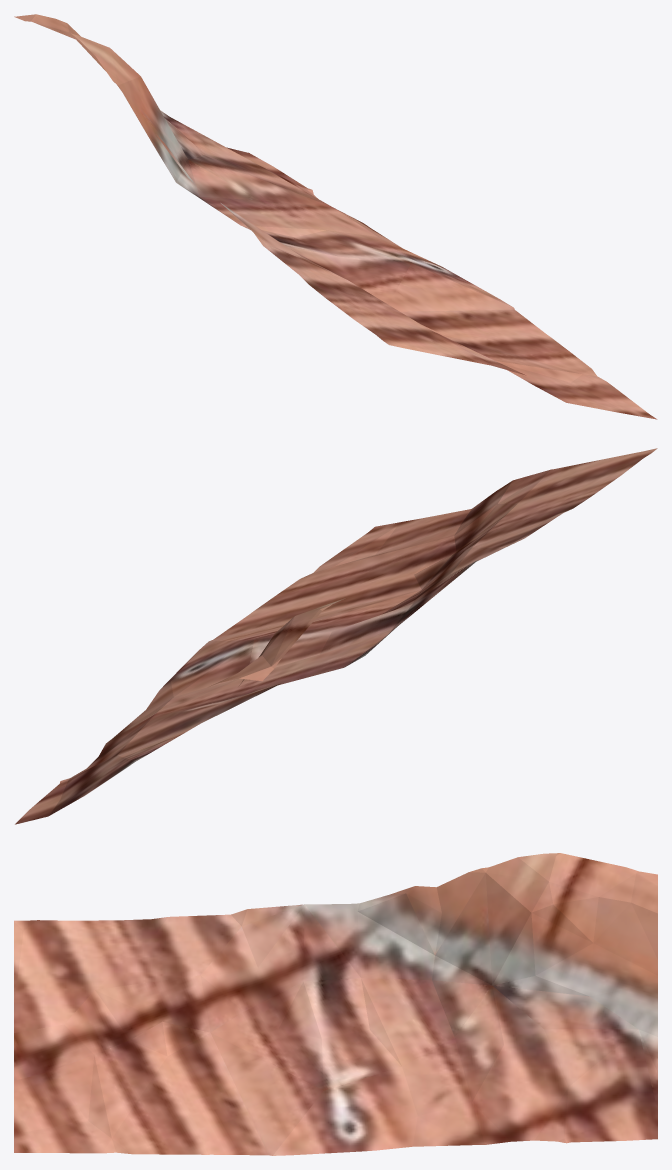
3 renders of one model, top to bottom at view 1: azimuth 30°, elevation 25°; view 2: azimuth 150°, elevation 25°; view 3: azimuth 270°, elevation 25°, orthographic. The views are drawn at different scales.
Size of the model in its own units: 0.3548 by 0.2692 by 0.8374.
Materials: 2 (2 with a texture image).
